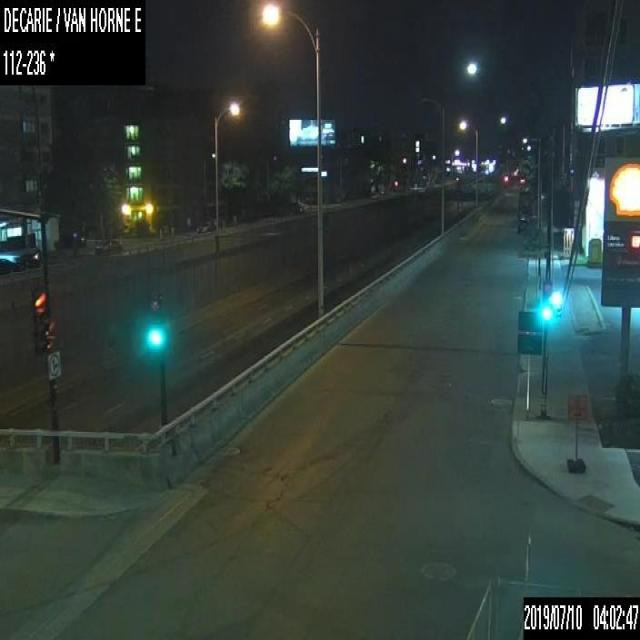construction: (566, 392, 588, 471)
vehicle: (516, 190, 536, 232), (94, 238, 122, 253), (0, 258, 18, 273), (196, 219, 215, 232), (72, 230, 86, 245), (290, 201, 305, 213), (370, 191, 379, 199)
